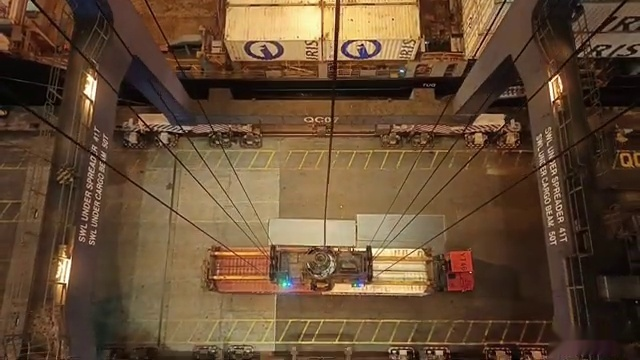container: (200, 237, 444, 301), (222, 7, 424, 66), (208, 1, 436, 33), (209, 0, 433, 28), (222, 1, 425, 26), (223, 0, 422, 8), (216, 0, 431, 3), (227, 0, 420, 3)
guide_mark: (70, 319, 545, 342), (104, 153, 546, 173)
spreader: (201, 239, 442, 299)
target_slot: (200, 237, 450, 298)
